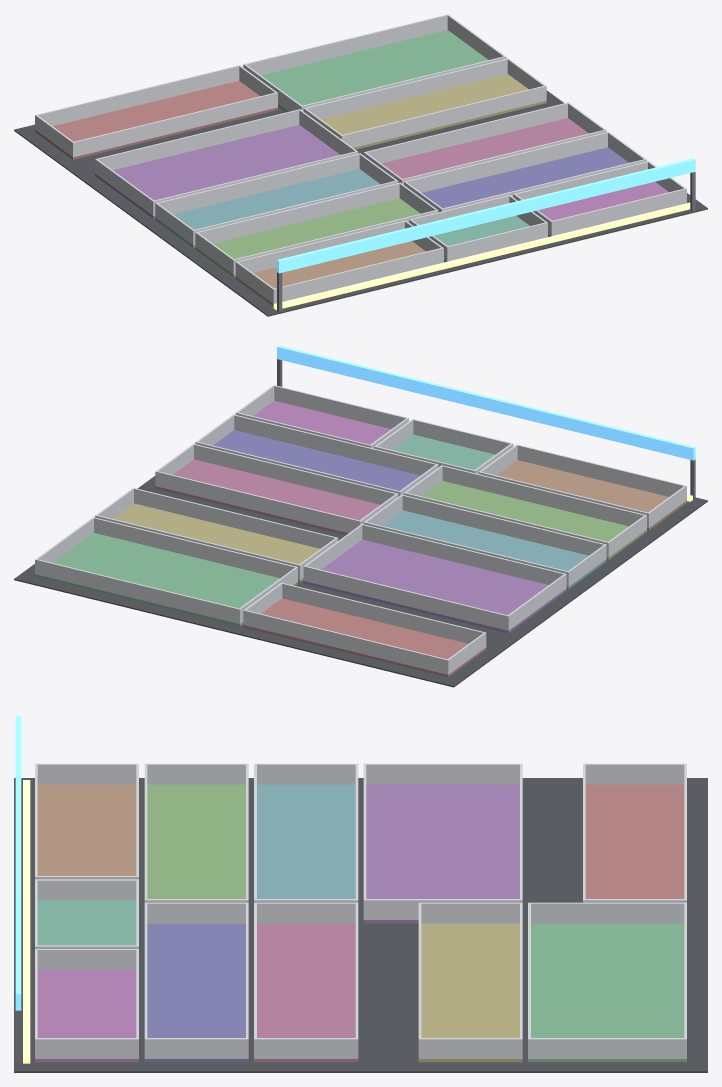
File: hall-crane-ops.glb
3 views of the same model, one above another, from view 1: azimuth 30°, elevation 25°; view 2: azimuth 150°, elevation 25°; view 3: azimuth 270°, elevation 25° (orthographic). The views are drawn at different scales.
Parts seen in each view (by area): view 1: Crane Operators; view 2: Crane Operators; view 3: Crane Operators.
Boxes of the visible parts, x1,y1,x2,y2 form: Crane Operators: (14, 14, 707, 316); Crane Operators: (14, 345, 707, 687); Crane Operators: (14, 716, 707, 1072).
Size of the model in its own units: 38 by 4.3 by 38.
